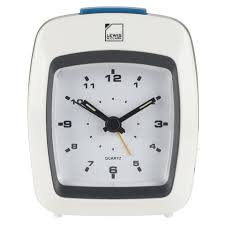alarm_clock: (25, 8, 200, 218), (32, 8, 200, 218)
